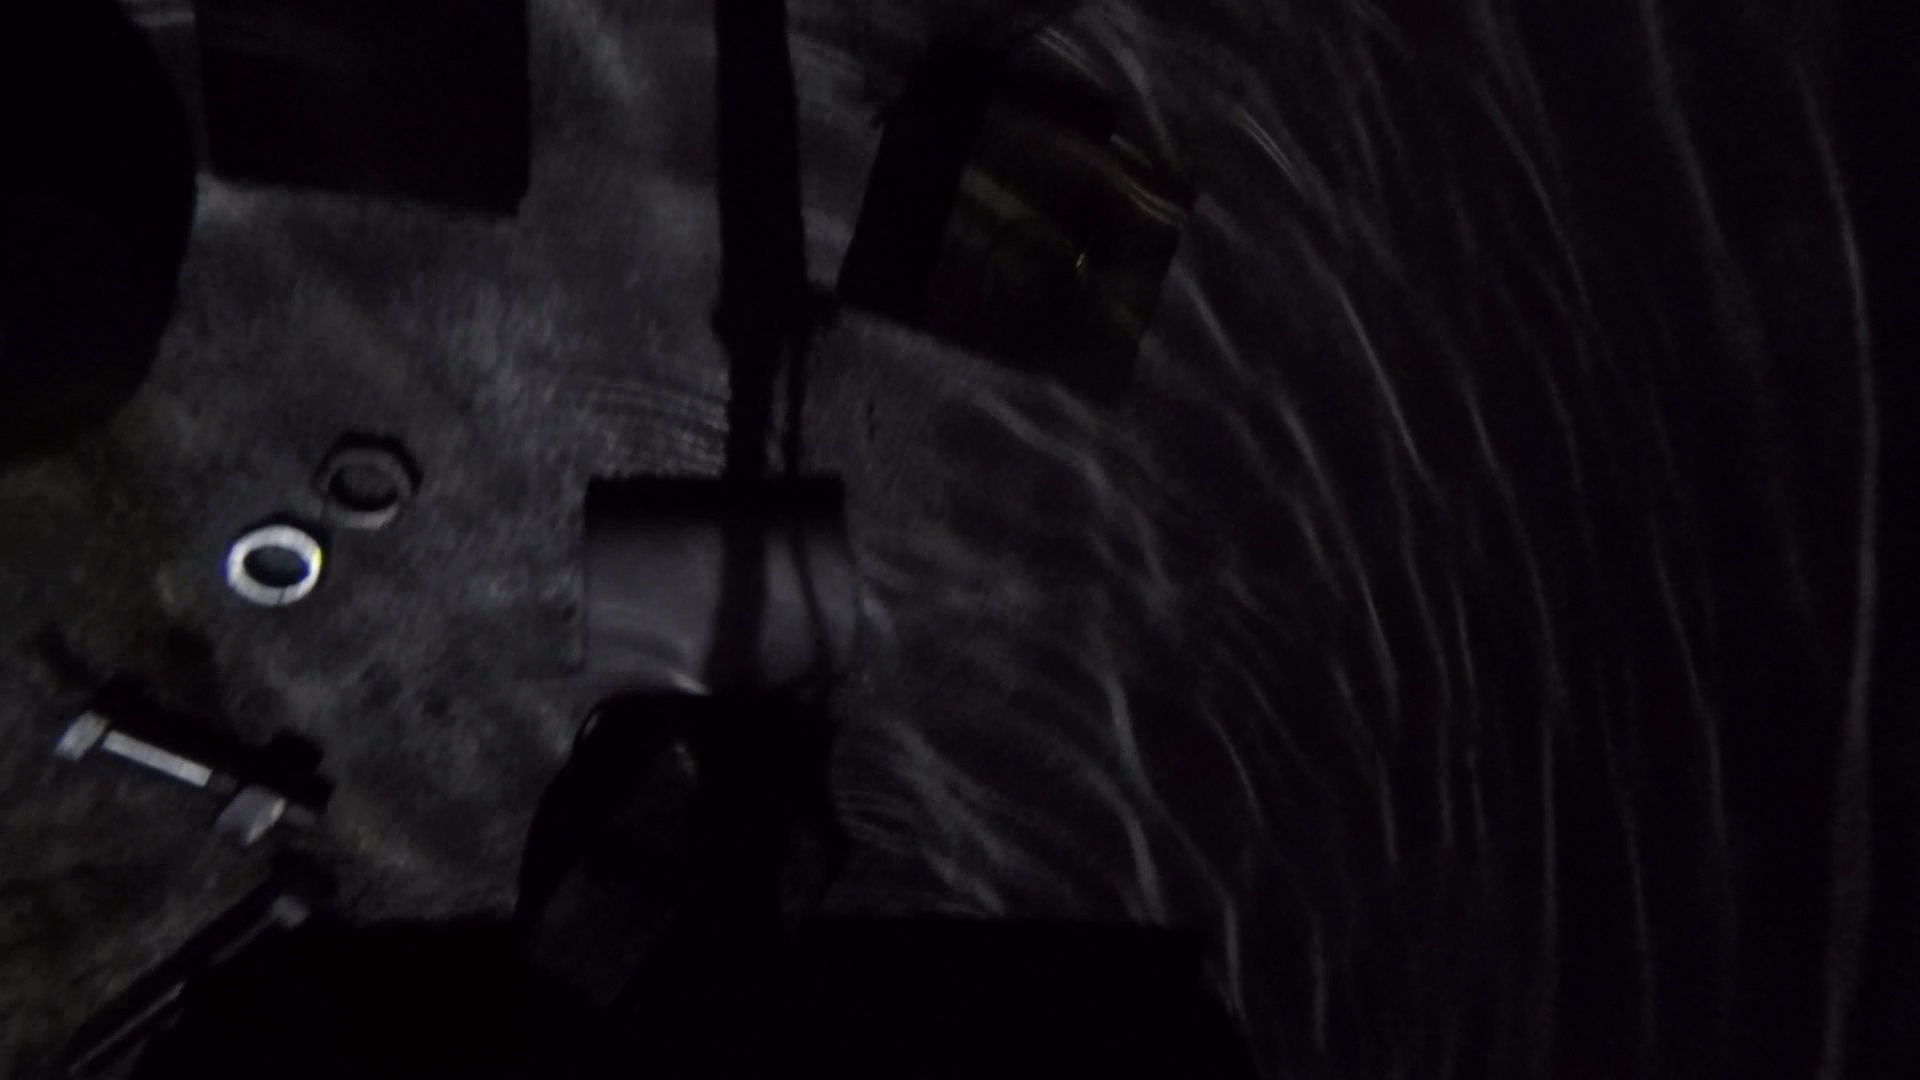bolt: (51, 698, 324, 839)
led_block: (833, 96, 1195, 404), (516, 713, 847, 1039)
nut: (207, 733, 310, 857), (313, 439, 419, 535), (222, 520, 324, 607)
pipe: (578, 522, 857, 675)
